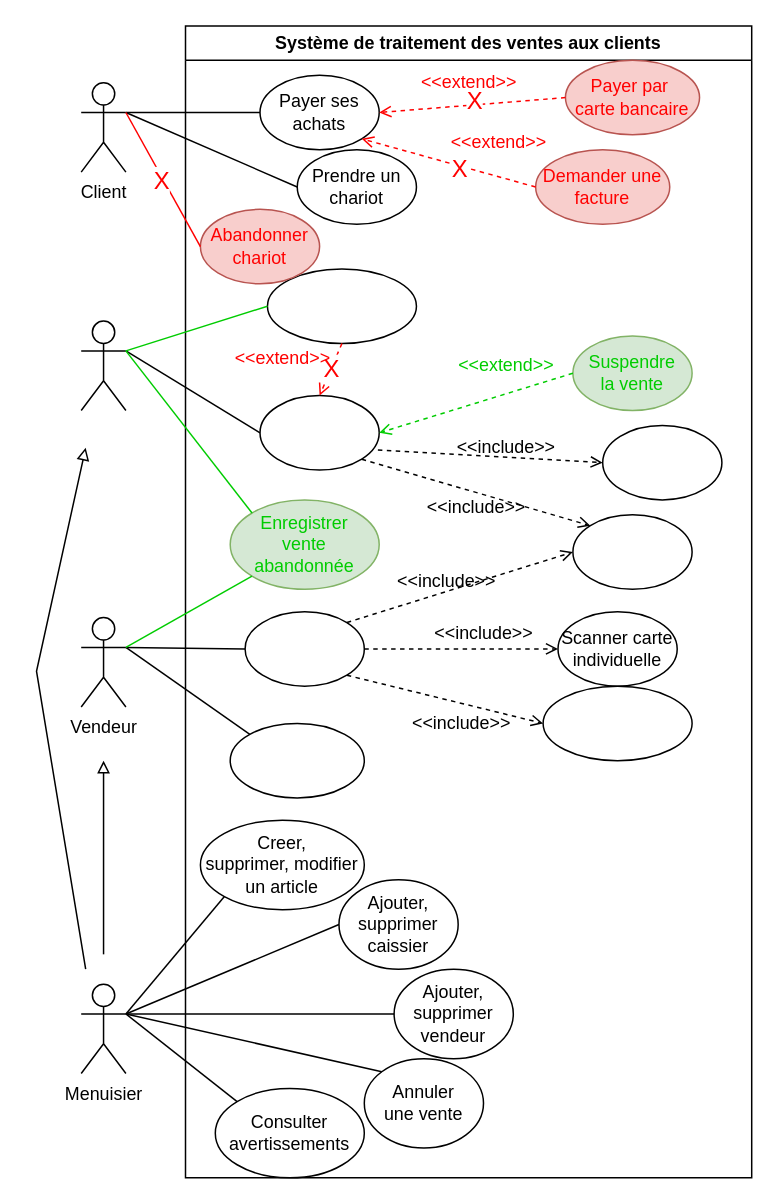
This 778x1204 diagram has some shape labels left out. The centre of each missing label's shape, as x and y in pixels:
"Caissier" belongs at pixel 103 365.
"Cloturer la vente" belongs at pixel 319 432.
"Consulter articles du magasin" belongs at pixel 296 760.
"Enregistrer un avertissement" belongs at pixel 341 305.
"Enregistrer une vente au stand" belongs at pixel 304 648.
"Scanner code du chariot" belongs at pixel 631 551.
"Scanner le/les code des article s" belongs at pixel 617 723.
"Vérifier le contenu du chariot" belongs at pixel 661 462.
